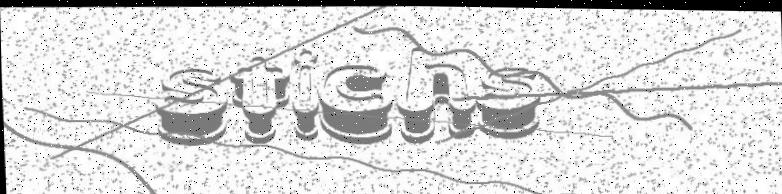c: (316, 57, 396, 150)
h: (396, 40, 476, 149)
i: (289, 40, 322, 142)
s: (149, 60, 231, 146), (470, 59, 547, 144)
t: (225, 51, 295, 144)
